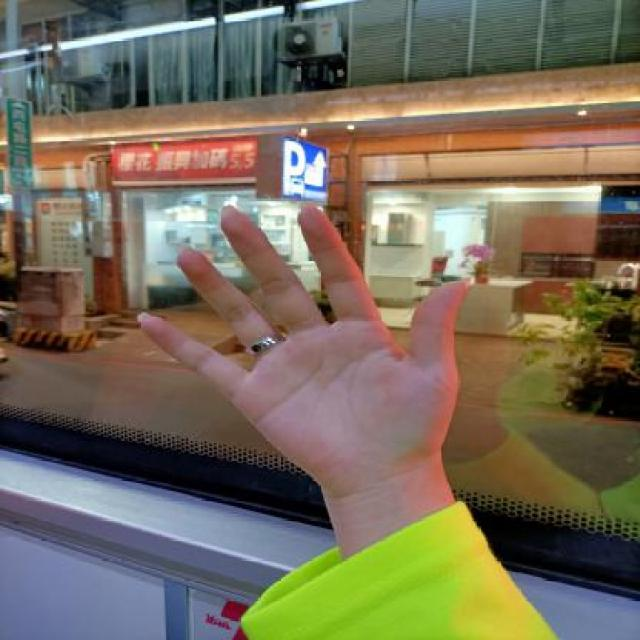bare_hand: (128, 184, 490, 524)
